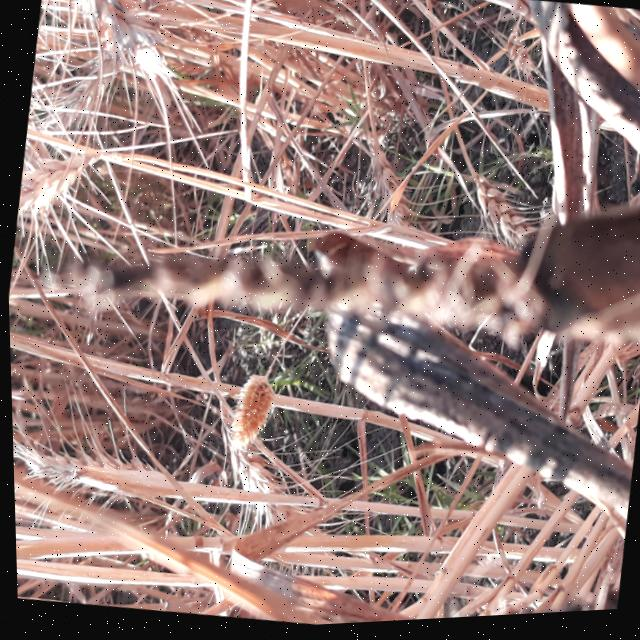loose_charred: (6, 134, 634, 419), (280, 248, 640, 525), (465, 0, 640, 199), (337, 523, 621, 627)
